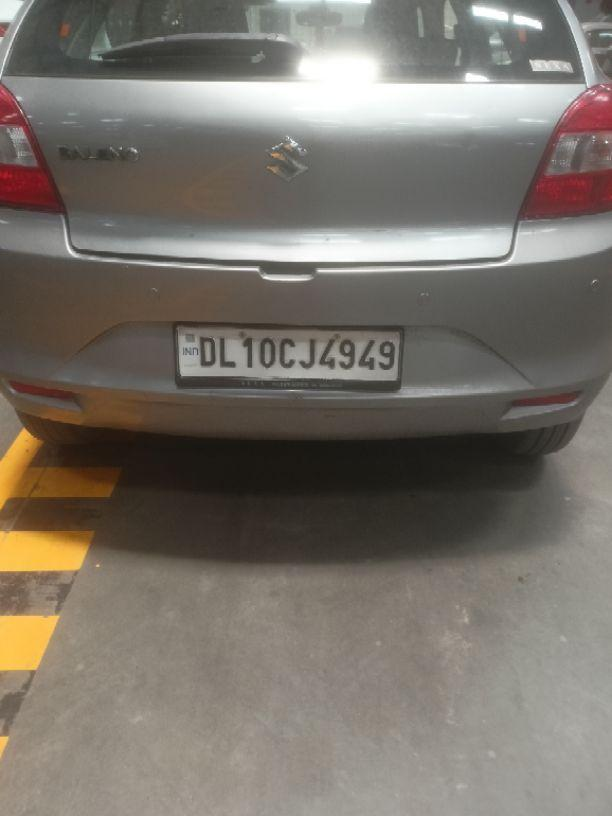license_plate: (172, 321, 404, 391)
